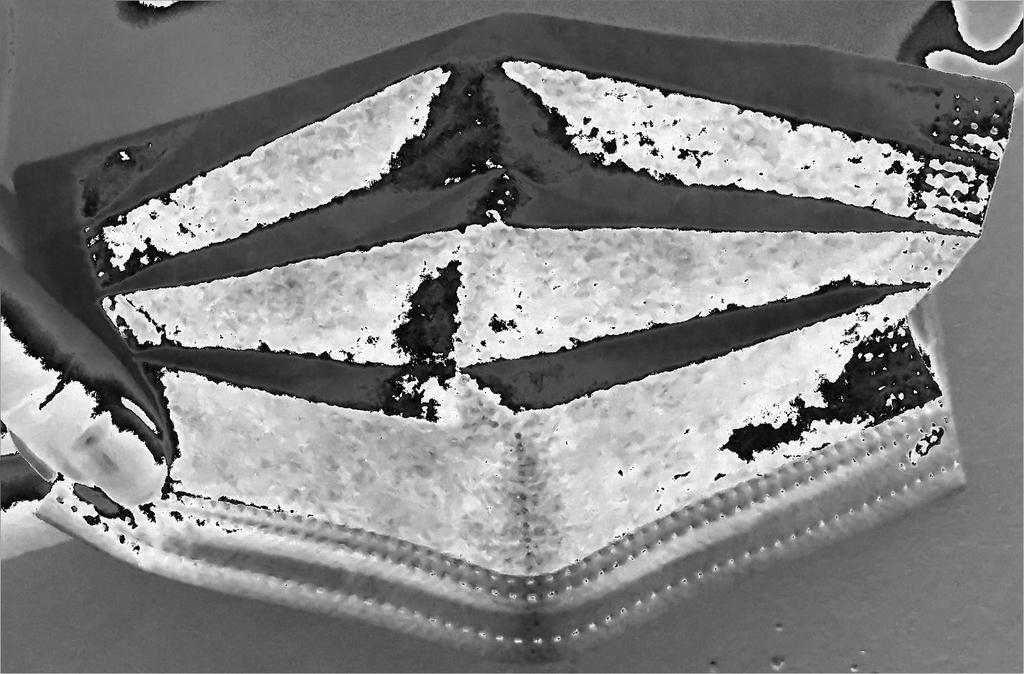High GSM: (178, 60, 866, 530)
